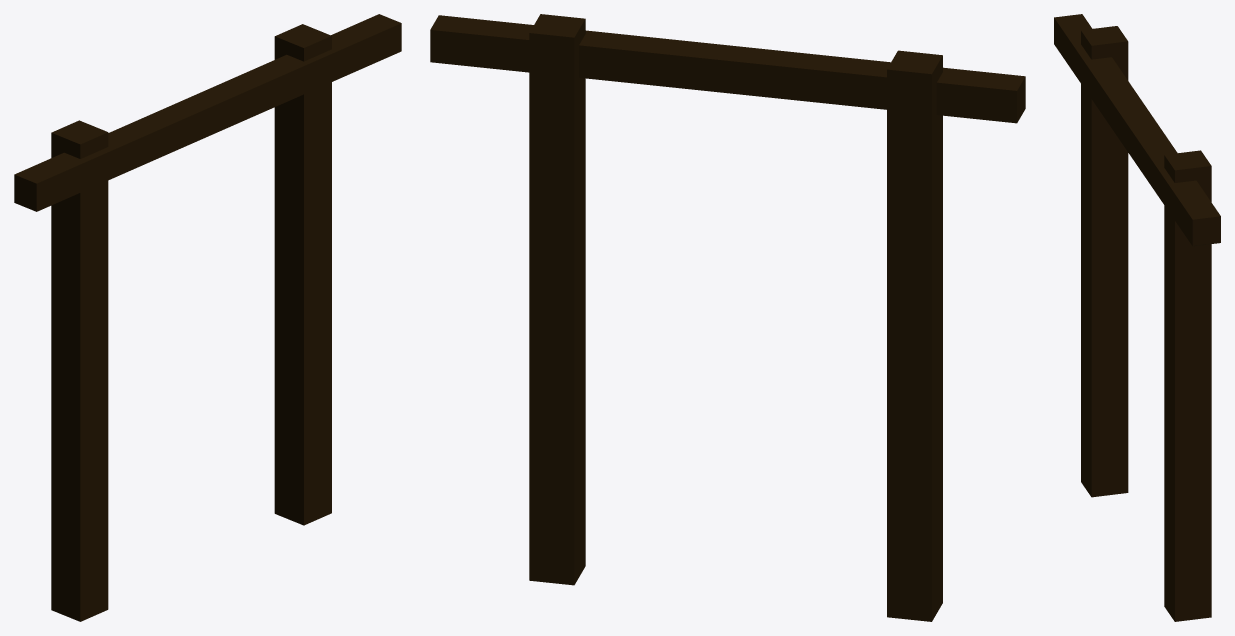
The model's file is marco_madera.obj.
The picture shows the model from 3 angles, left to right: view 1: azimuth 30°, elevation 25°; view 2: azimuth 150°, elevation 25°; view 3: azimuth 270°, elevation 25°; orthographic projection. The views are drawn at different scales.
Visible parts, largest first — view 1: Cube.001; view 2: Cube.001; view 3: Cube.001.
Boxes of the visible parts, left/top/right/bottom form: Cube.001: left=14, top=14, right=401, bottom=621; Cube.001: left=430, top=14, right=1025, bottom=621; Cube.001: left=1054, top=14, right=1220, bottom=621.
Bounding box in the file's own units: 1.95 × 2 × 0.6701.
Materials: 1 (1 with a texture image).
